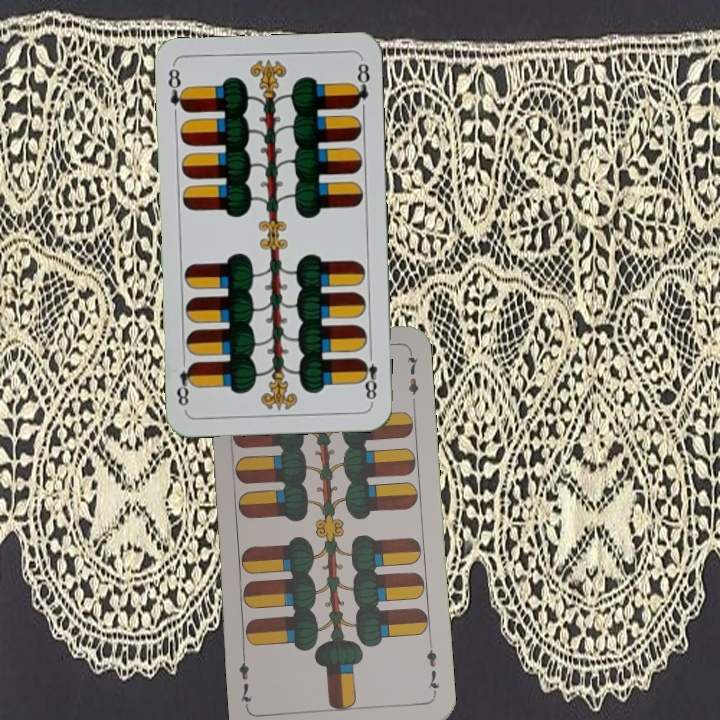E7: (422, 646, 443, 698)
E8: (356, 346, 380, 406), (164, 63, 190, 115)
